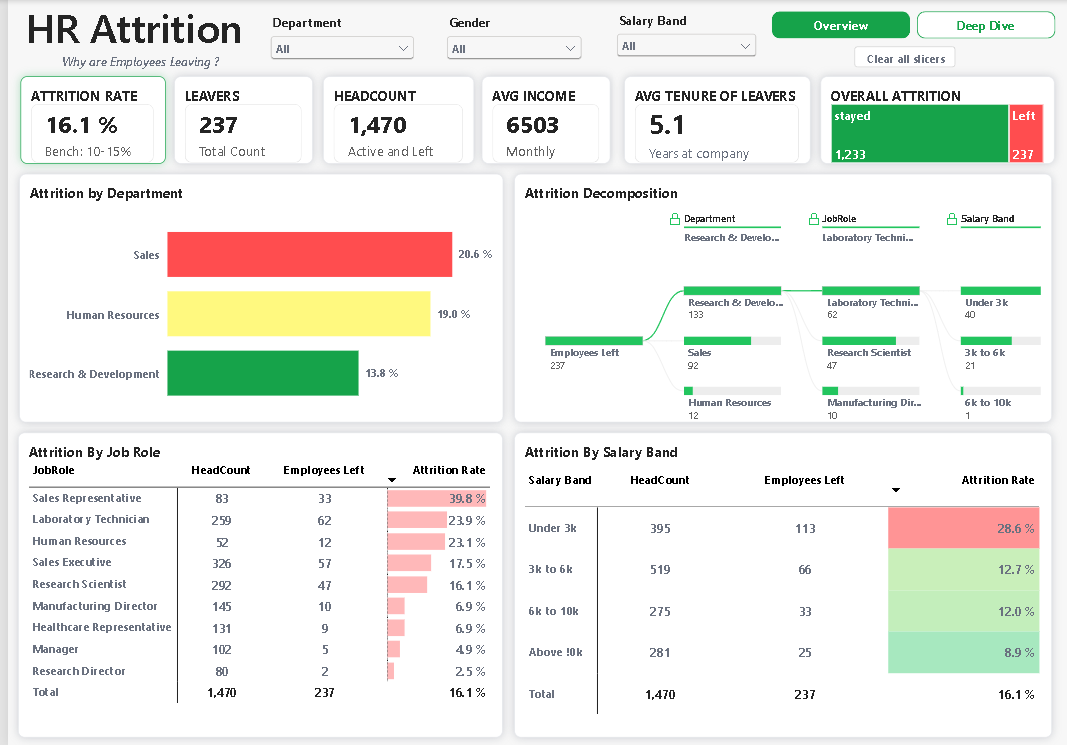

The dashboard page shown, as its layout file describes it:
{"tool":"powerbi","page":{"name":"Overview","canvas":[1280,900],"ordinal":0},"visuals":[{"type":"textbox","box":[18.1,0,268.4,92],"z":0},{"type":"textbox","box":[49.8,63.3,205.1,36.2],"z":1000},{"type":"slicer","fields":{"Values":["HR _Employees.Department"]},"box":[312.2,16.9,182.5,55.8],"z":2000},{"type":"slicer","fields":{"Values":["HR _Employees.Gender"]},"box":[524.8,16.6,171.9,58.8],"z":3000},{"type":"slicer","fields":{"Values":["HR _Employees.Salary Band"]},"box":[729.9,13.9,177.9,58.8],"z":4000},{"type":"actionButton","box":[1021,55.8,122.2,25.6],"z":5000},{"type":"pageNavigator","box":[921.4,13.6,342.3,33.2],"z":6000},{"type":"cardVisual","title":"AVG TENURE OF LEAVERS","fields":{"Data":["HR _Employees.Avg Tenure of Leavers"]},"box":[744.1,92,224.7,105.6],"z":7000},{"type":"cardVisual","title":"ATTRITION RATE","fields":{"Data":["HR _Employees.Attrition Rate"]},"box":[15.7,91.7,174.9,105.6],"z":8000},{"type":"cardVisual","title":"LEAVERS","fields":{"Data":["HR _Employees.Employees Left"]},"box":[201.2,91.7,167.4,105.6],"z":9000},{"type":"cardVisual","title":" HEADCOUNT","fields":{"Data":["HR _Employees.HeadCount"]},"box":[380.6,92,182.5,105.6],"z":10000},{"type":"cardVisual","title":"AVG INCOME","fields":{"Data":["HR _Employees.Avg Monthly Income"]},"box":[572.2,92,155.3,105.6],"z":11000},{"type":"treemap","title":"OVERALL ATTRITION","fields":{"Values":["HR _Employees.Employees Left","HR _Employees.Employees stayed"]},"box":[980.8,92,282,105.6],"z":12000},{"type":"barChart","title":"Attrition by Department","fields":{"Category":["HR _Employees.Department"],"Y":["HR _Employees.Attrition Rate"]},"box":[13.6,209.6,583.6,300.1],"z":13000},{"type":"decompositionTreeVisual","title":"Attrition Decomposition","fields":{"Analyze":["HR _Employees.Employees Left"],"ExplainBy":["HR _Employees.Department","HR _Employees.JobRole","HR _Employees.Salary Band"]},"box":[610.8,209.6,648.5,300.1],"z":14000},{"type":"pivotTable","title":"Attrition By Job Role","fields":{"Rows":["HR _Employees.JobRole"],"Values":["HR _Employees.HeadCount","HR _Employees.Employees Left","HR _Employees.Attrition Rate"]},"box":[12.1,521.8,585.1,368],"z":15000},{"type":"pivotTable","title":"Attrition By Salary Band","fields":{"Rows":["HR _Employees.Salary Band"],"Values":["HR _Employees.HeadCount","HR _Employees.Employees Left","HR _Employees.Attrition Rate"]},"box":[610.8,521.8,648.5,368],"z":16000}]}

Visuals, with their boxes in screenshot pixels (x1, y1, x2, y2), scaled from the page's 1280x900 canvas onto the 1067x745 screenshot:
textbox: (15,0,239,76)
textbox: (42,52,212,82)
slicer - HR _Employees.Department: (260,14,412,60)
slicer - HR _Employees.Gender: (437,14,581,62)
slicer - HR _Employees.Salary Band: (608,12,757,60)
actionButton: (851,46,953,67)
pageNavigator: (768,11,1053,39)
"AVG TENURE OF LEAVERS" cardVisual: (620,76,808,164)
"ATTRITION RATE" cardVisual: (13,76,159,163)
"LEAVERS" cardVisual: (168,76,307,163)
" HEADCOUNT" cardVisual: (317,76,469,164)
"AVG INCOME" cardVisual: (477,76,606,164)
"OVERALL ATTRITION" treemap: (818,76,1053,164)
"Attrition by Department" barChart: (11,174,498,422)
"Attrition Decomposition" decompositionTreeVisual: (509,174,1050,422)
"Attrition By Job Role" pivotTable: (10,432,498,737)
"Attrition By Salary Band" pivotTable: (509,432,1050,737)
